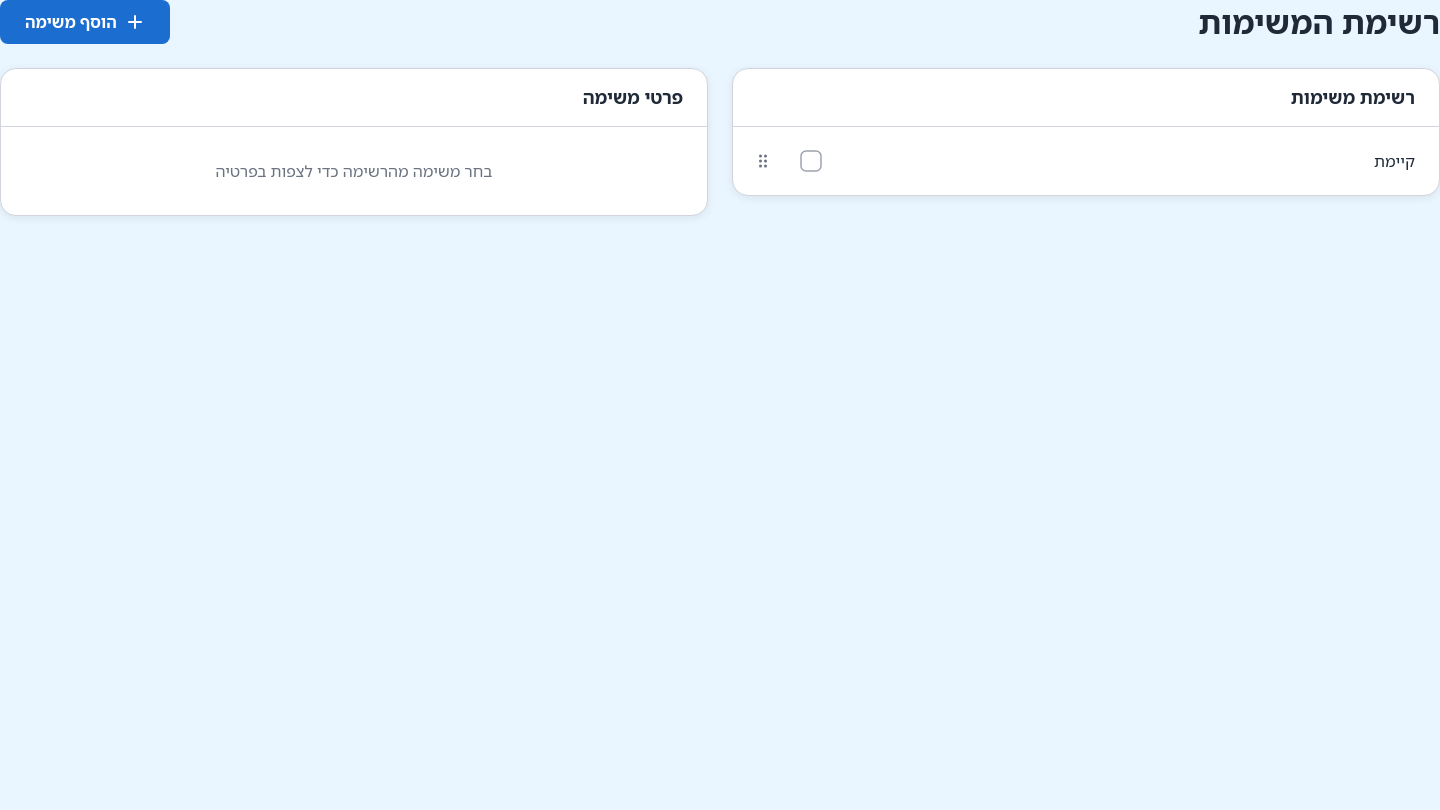
it: create task modal › sends only one request when the save button is pressed twice
This screenshot has width=1440, height=810.
Click the button "הוסף משימה" at (85, 22), box [0,0,170,44]
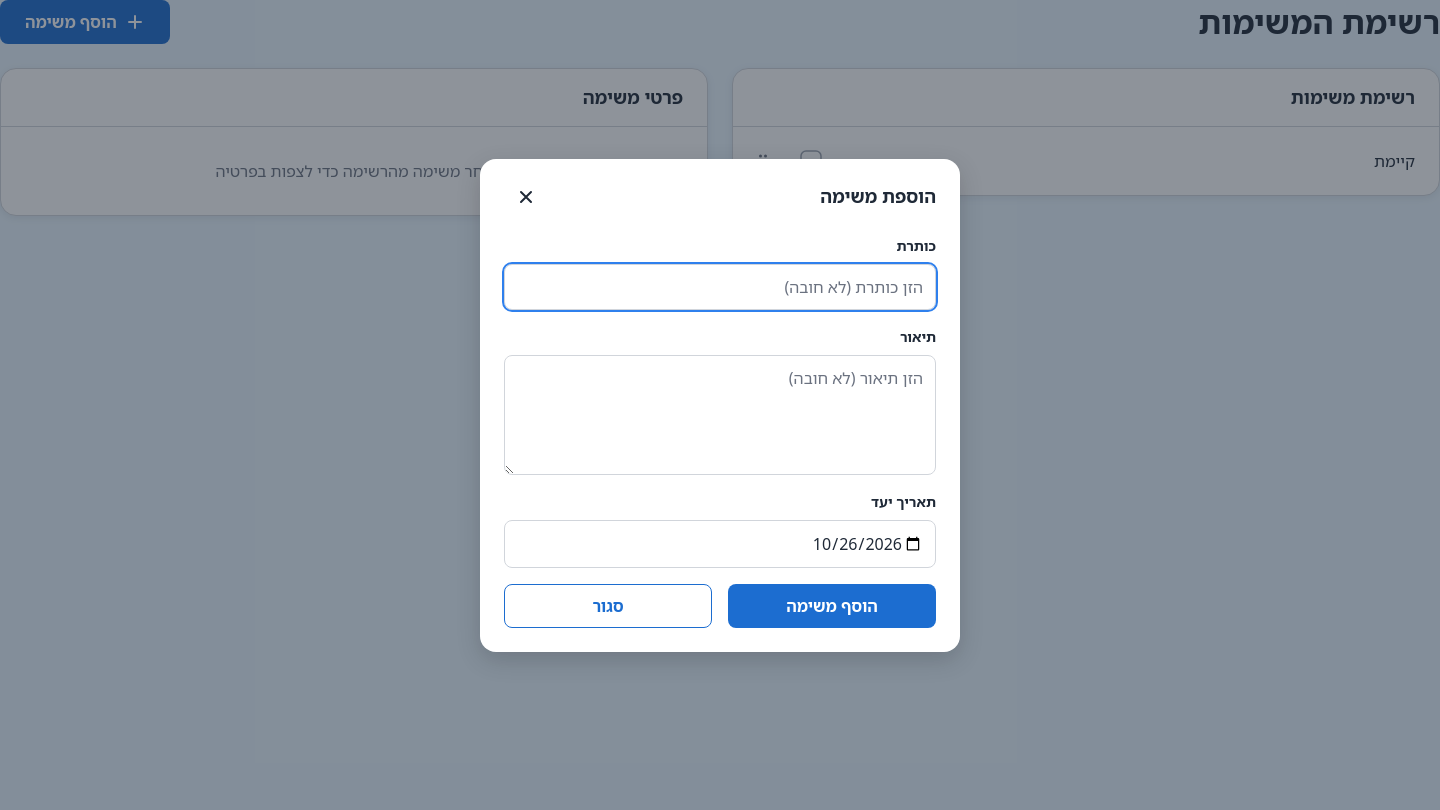
Type "תיאור" into the text box labelled "תיאור" at (720, 414), box [504,354,936,474]
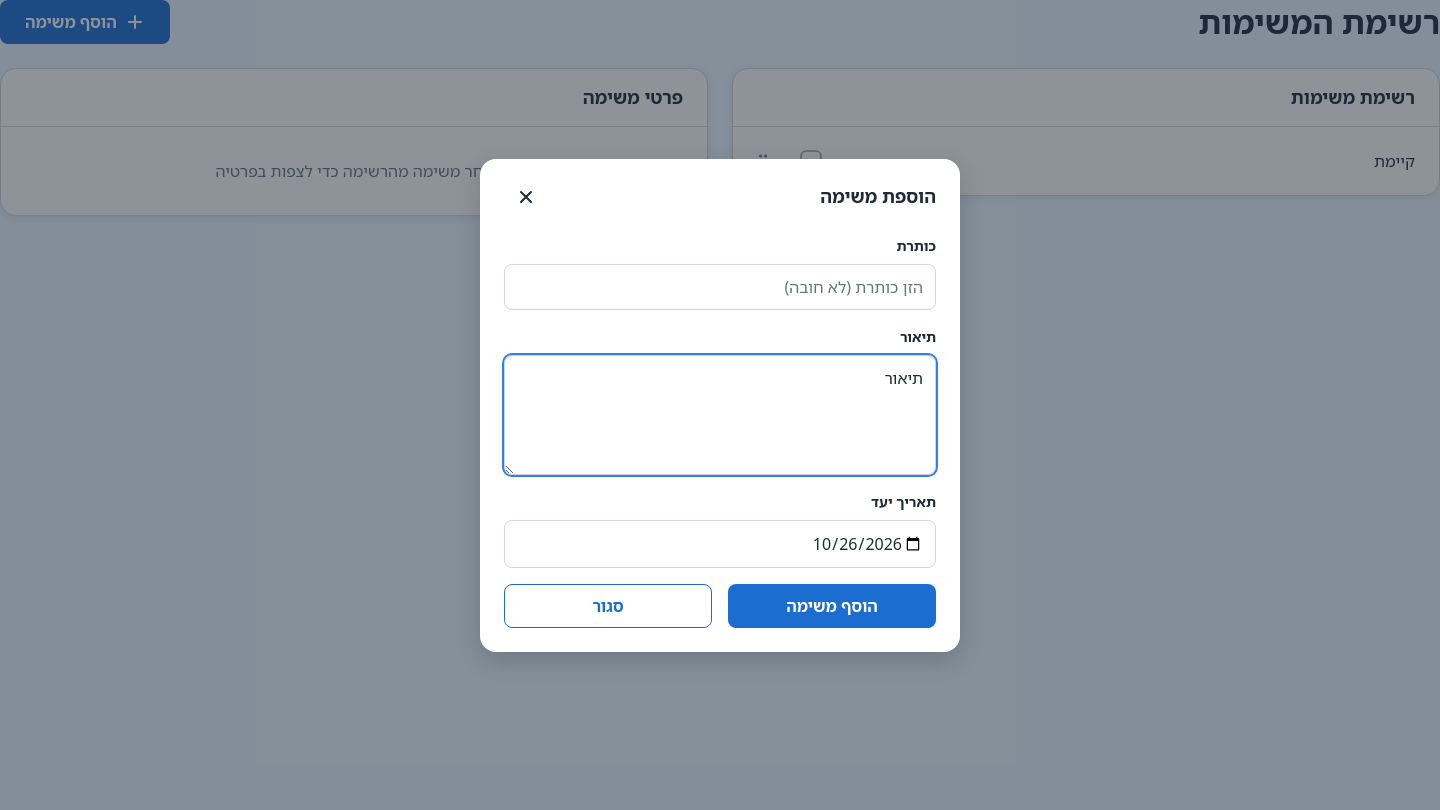
Click the button "הוסף משימה" at (832, 606), box [728,584,936,628]
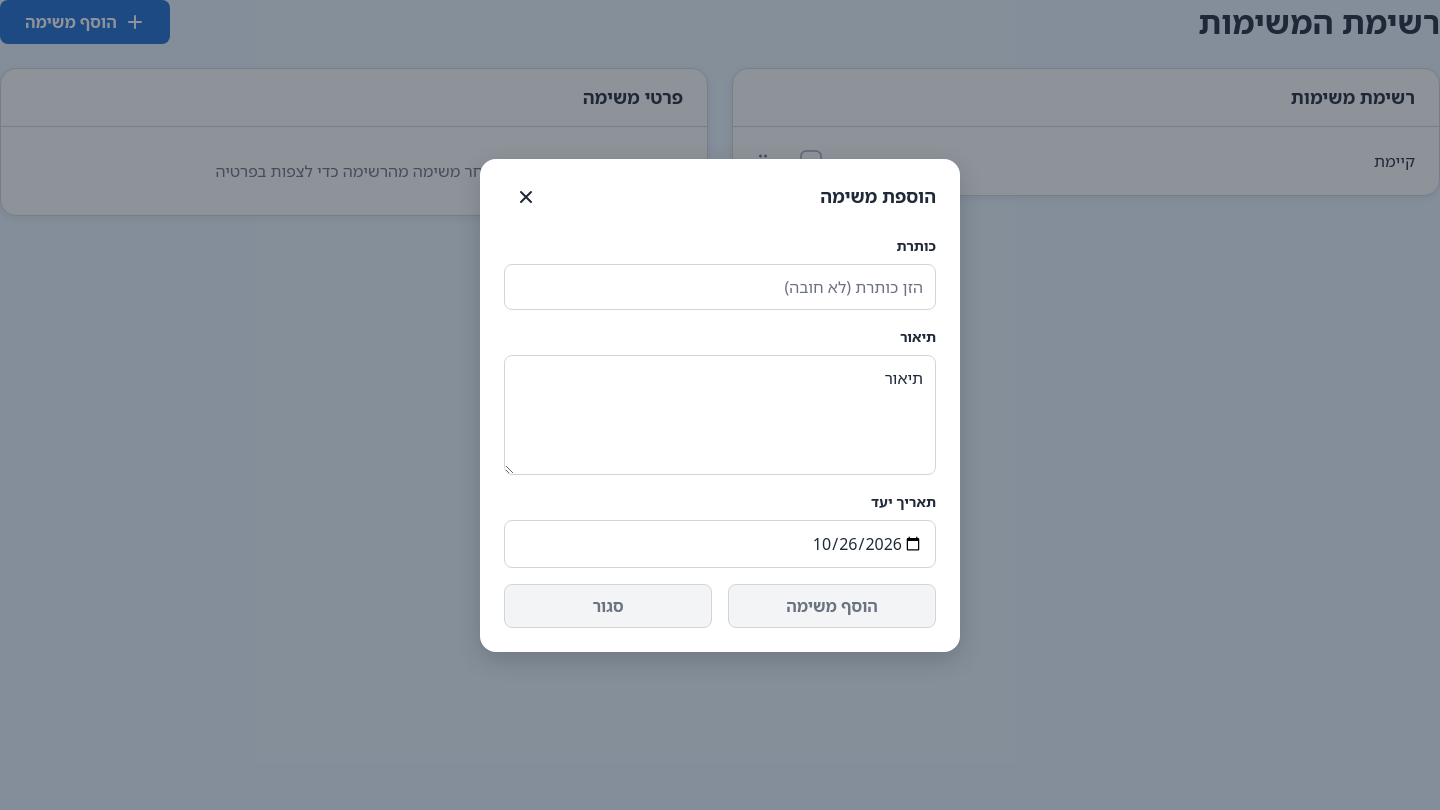
Expected: the button "הוסף משימה" is disabled, [728,584,936,628]
Submit the form "הוסף משימה", box [480,218,960,652]
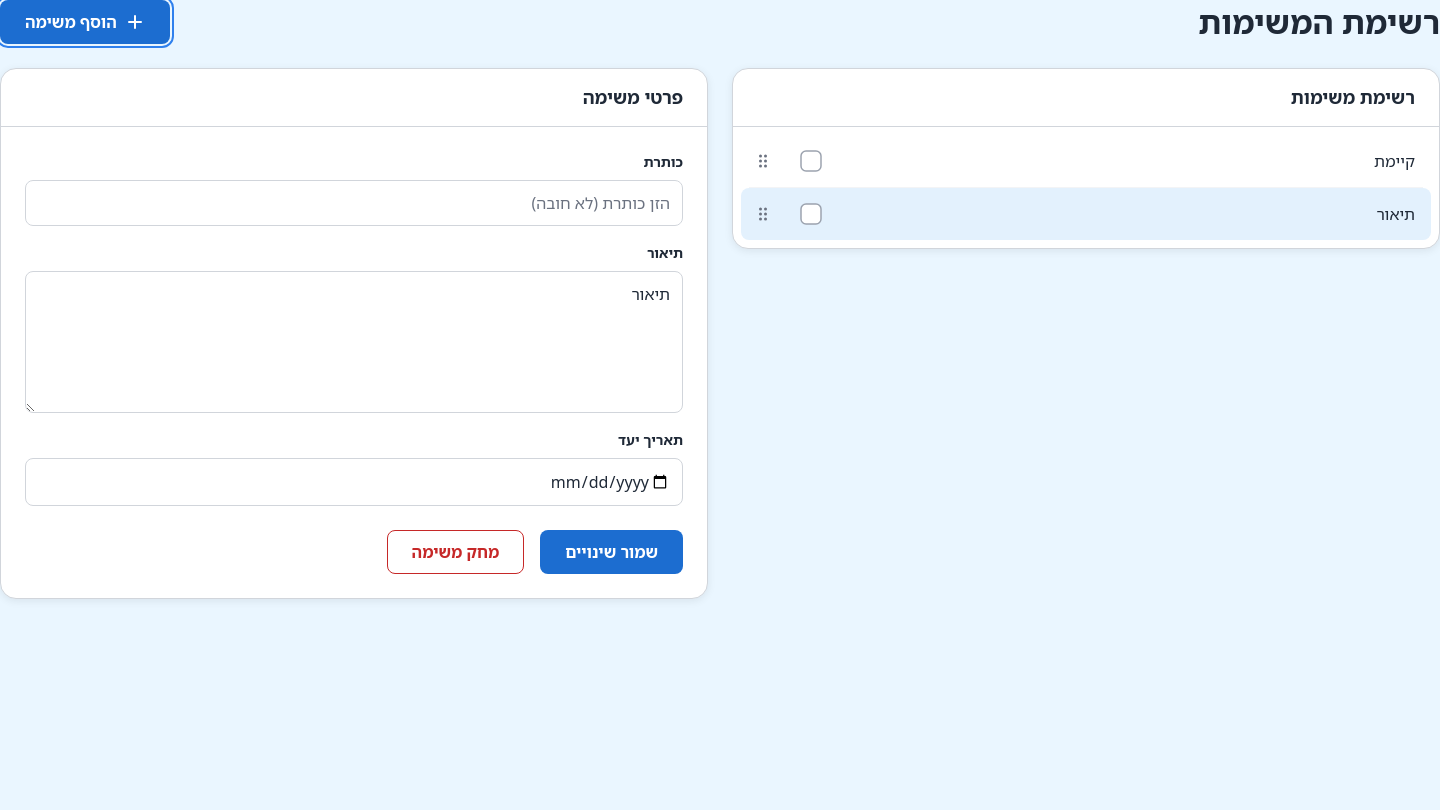
Expected: the dialog is gone
